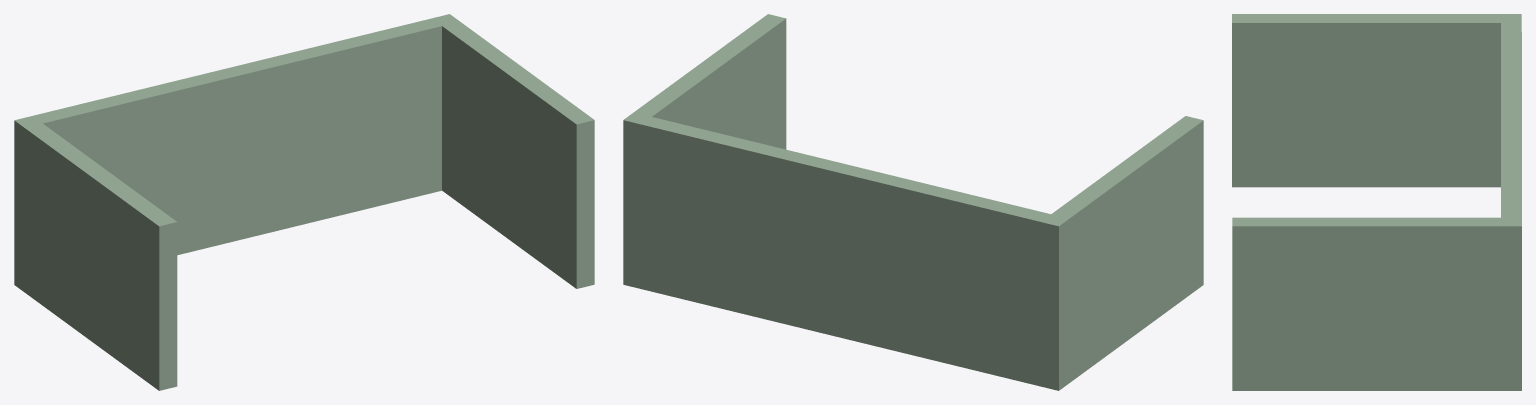
Rendered from right_arm.dae.
The picture shows the model from 3 angles, left to right: view 1: azimuth 30°, elevation 25°; view 2: azimuth 150°, elevation 25°; view 3: azimuth 270°, elevation 25°; orthographic projection.
Parts seen in each view (by area): view 1: right_arm; view 2: right_arm; view 3: right_arm.
Boxes of the visible parts, <box> form: right_arm: <box>14,14,594,390</box>; right_arm: <box>623,14,1203,390</box>; right_arm: <box>1232,14,1521,390</box>.
Bounding box in the file's own units: 0.072 × 0.0415 × 0.026.
